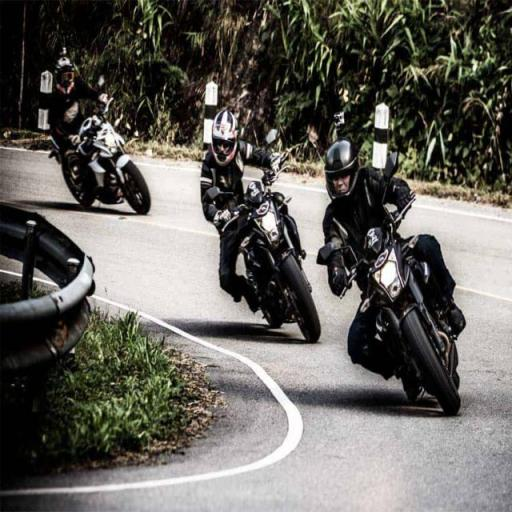Helmet: (313, 134, 378, 216), (201, 107, 251, 178), (42, 48, 86, 108)
Motor: (326, 230, 484, 420), (205, 187, 329, 349), (46, 113, 144, 216)
